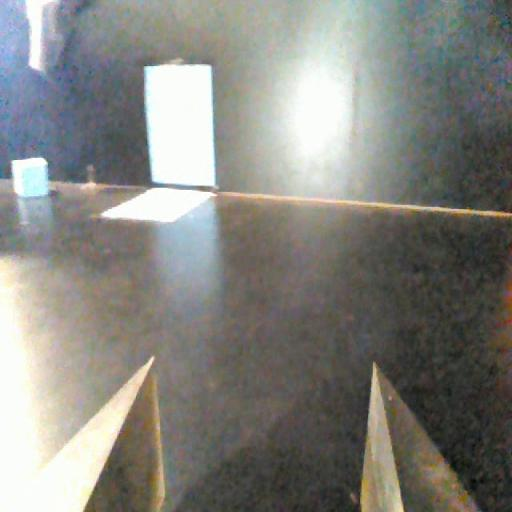cube: (12, 153, 54, 201)
